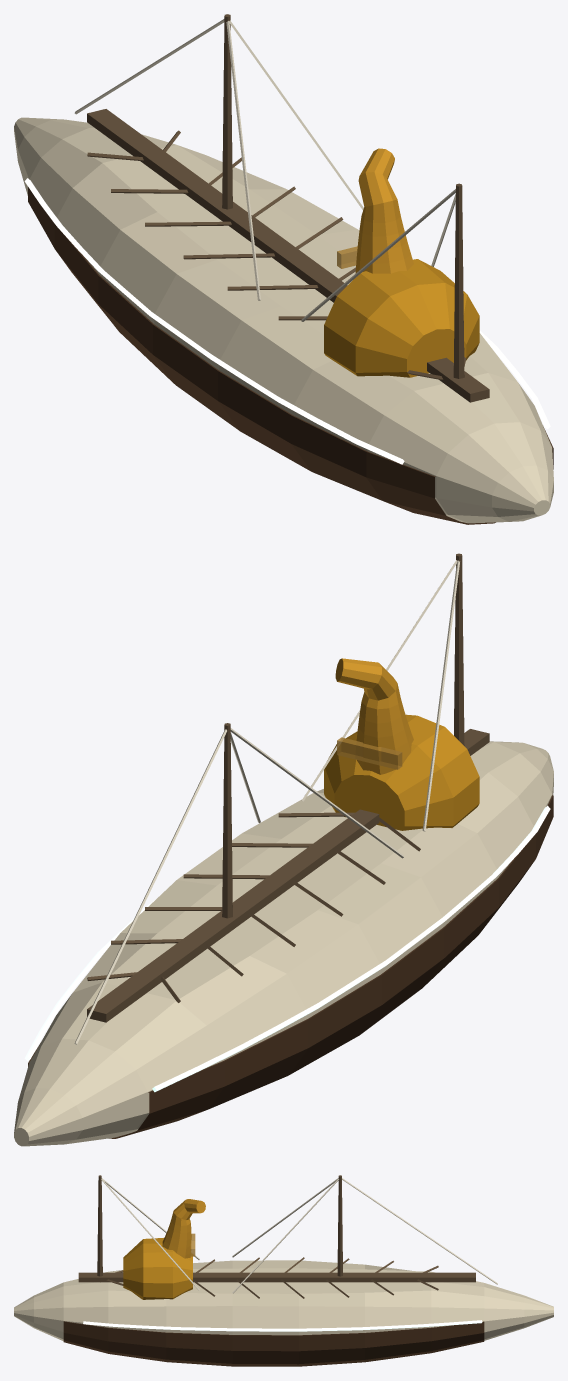
The model's file is hauler_reedfolk.glb.
3 renders of one model, top to bottom at view 1: azimuth 30°, elevation 25°; view 2: azimuth 150°, elevation 25°; view 3: azimuth 270°, elevation 25°, orthographic. The views are drawn at different scales.
Visible parts, largest first — view 1: hauler_reedfolk_body; view 2: hauler_reedfolk_body; view 3: hauler_reedfolk_body.
Boxes of the visible parts, x1,y1,x2,y2 form: hauler_reedfolk_body: (14, 14, 553, 524); hauler_reedfolk_body: (14, 553, 553, 1146); hauler_reedfolk_body: (14, 1175, 553, 1366).
Size of the model in its own units: 8.7 by 12.15 by 32.6.
